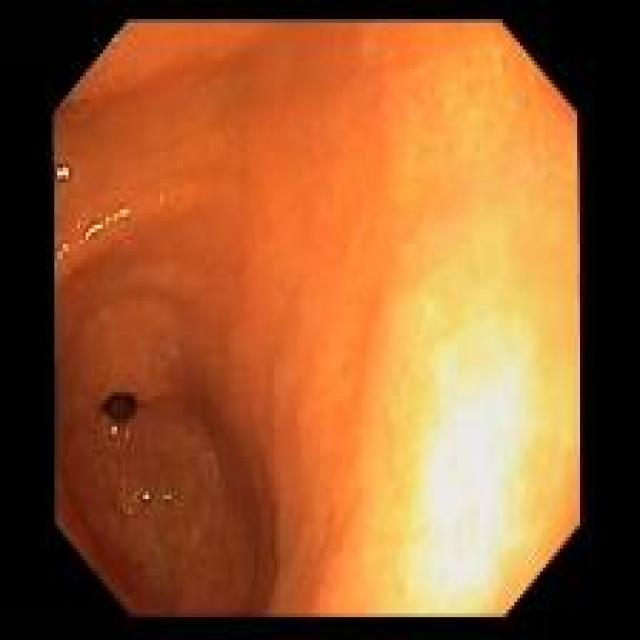bubbles: (55, 160, 74, 187), (105, 421, 123, 440), (141, 489, 154, 505), (162, 489, 175, 504)
contrast: (98, 387, 145, 421)
saturation: (353, 20, 582, 616)
specularity: (80, 203, 137, 240), (54, 152, 75, 189), (103, 417, 127, 445), (138, 480, 158, 511)
